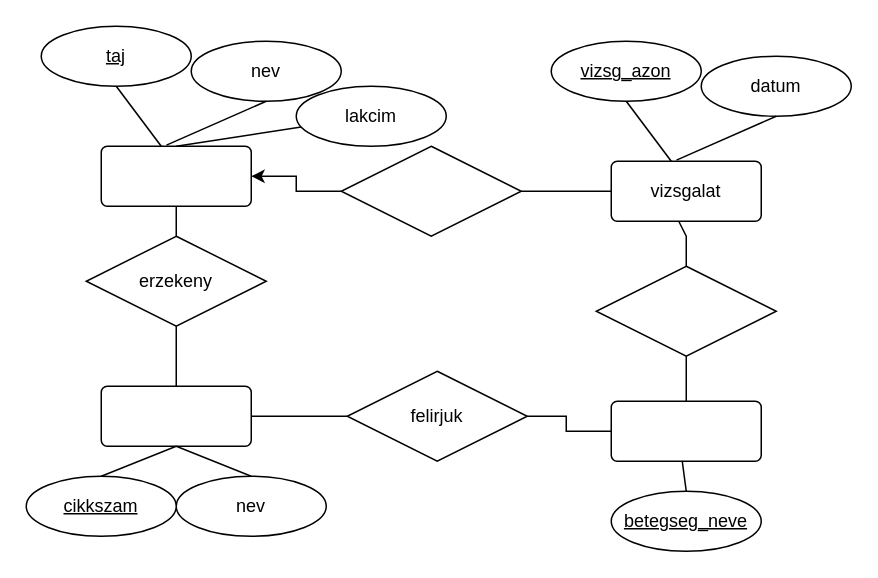
Some shapes in this 878 by 578 pixel diagram are drawn without their labels. The shapes that lost their labels are listed below. From the top down, each one's centre as x and y in pixels, then its label:
point (175, 175): beteg
point (430, 190): latogat
point (685, 310): diagnosztizal
point (175, 415): gyogyszer
point (685, 430): betegseg
